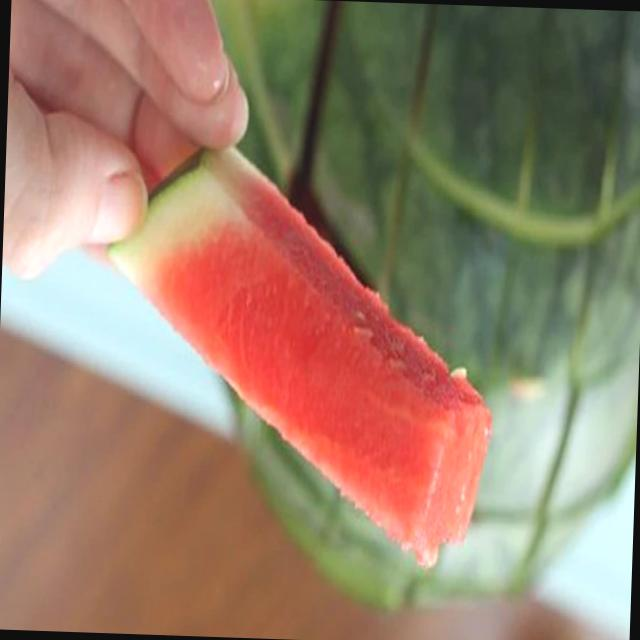dua hau: (107, 148, 490, 565)
